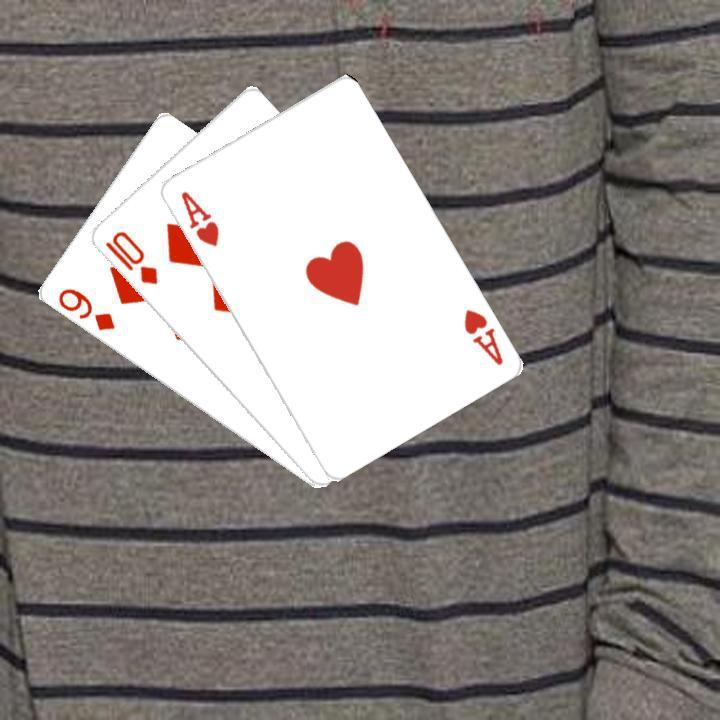10: (100, 226, 160, 287)
9: (52, 283, 117, 333)
A: (458, 304, 505, 368), (175, 186, 221, 249)
